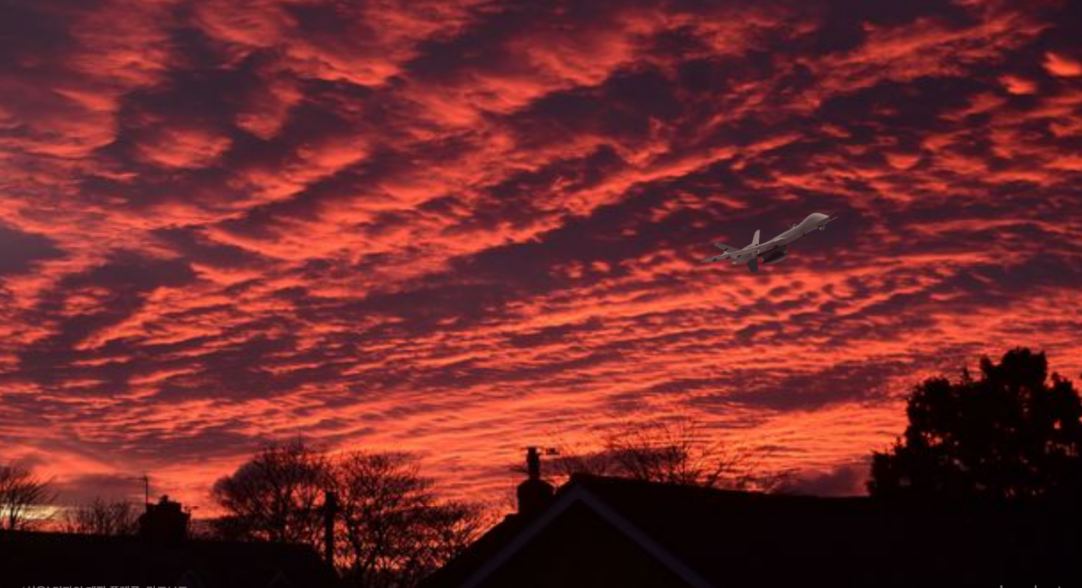military drone: (701, 212, 837, 273)
